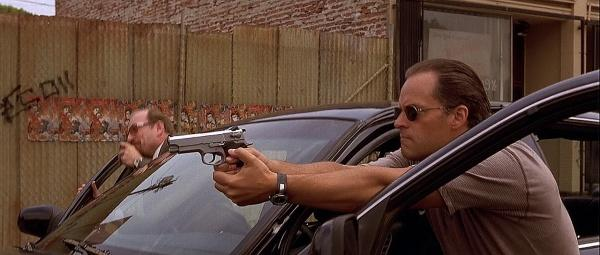Gun: (166, 128, 248, 169)
